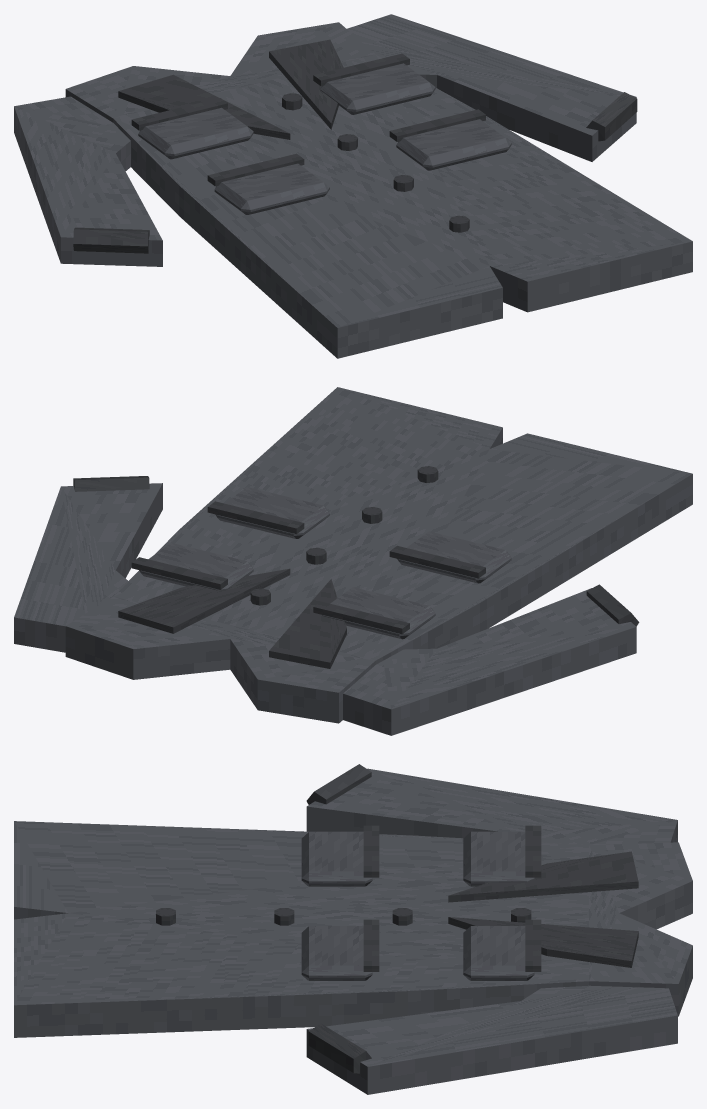
File: duster.glb
The picture shows the model from 3 angles, top to bottom: view 1: azimuth 30°, elevation 25°; view 2: azimuth 150°, elevation 25°; view 3: azimuth 270°, elevation 25°; orthographic projection. The views are drawn at different scales.
Parts seen in each view (by area): view 1: block_coat body, block_sleeve (×2), block_patch pocket (×4), block_lapel (×2), block_pocket welt (×4), block_cuff 0 (×2); view 2: block_coat body, block_sleeve (×2), block_patch pocket (×4), block_lapel (×2), block_pocket welt (×4), block_cuff 0 (×2); view 3: block_coat body, block_sleeve (×2), block_patch pocket (×4), block_lapel (×2), block_pocket welt (×4), block_cuff 0 (×2).
Part boxes in pixels (x1,y1,x2,y2): block_coat body: (65,22,692,358); block_sleeve (×2): (14,14,636,266); block_patch pocket (×4): (138,63,511,214); block_lapel (×2): (118,39,343,139); block_pocket welt (×4): (131,53,485,186); block_cuff 0 (×2): (73,92,637,253); block_coat body: (65,387,692,723); block_sleeve (×2): (14,483,636,735); block_patch pocket (×4): (139,487,511,639); block_lapel (×2): (118,568,346,668); block_pocket welt (×4): (131,501,485,634); block_cuff 0 (×2): (73,476,639,626); block_coat body: (14,821,692,1037); block_sleeve (×2): (306,768,677,1094); block_patch pocket (×4): (301,831,534,980); block_lapel (×2): (448,851,638,967); block_pocket welt (×4): (363,825,541,971); block_cuff 0 (×2): (306,764,371,1073).
Size of the model in its own units: 0.851 by 0.0667 by 0.8186.
1 material, 1 textured.
